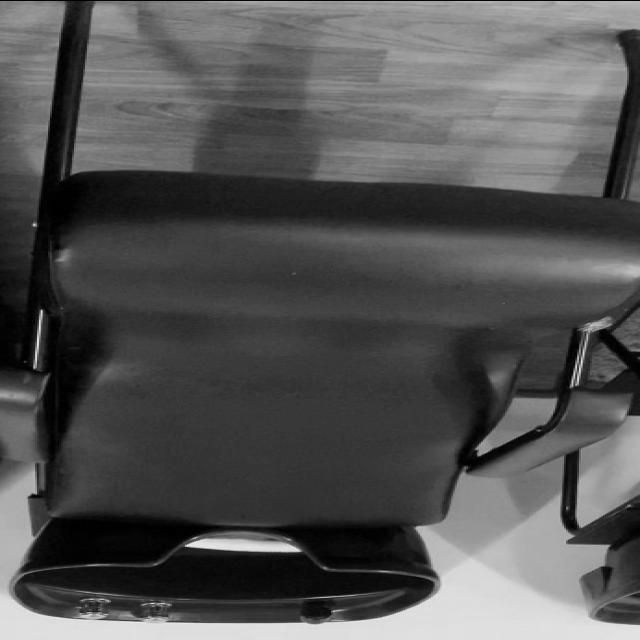chair: (29, 1, 640, 526)
